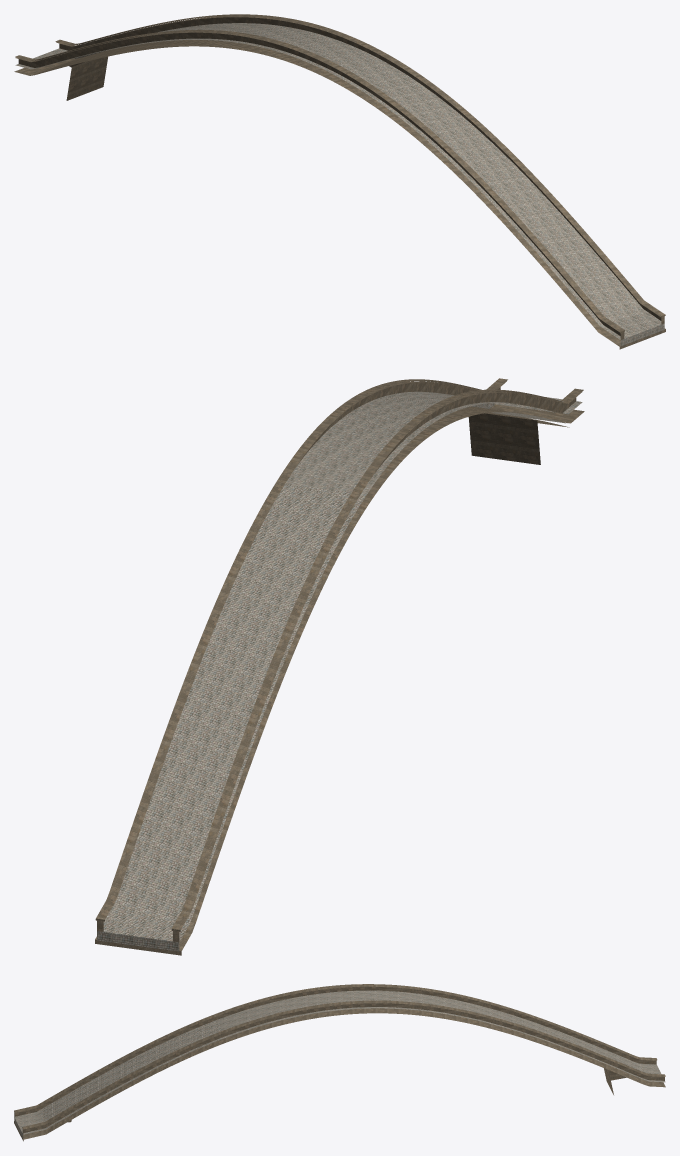
File: lava_bridge_0.glb
The picture shows the model from 3 angles, top to bottom: view 1: azimuth 30°, elevation 25°; view 2: azimuth 150°, elevation 25°; view 3: azimuth 270°, elevation 25°; orthographic projection. The views are drawn at different scales.
Visible parts, largest first — view 1: LavaBridge; view 2: LavaBridge; view 3: LavaBridge.
Part boxes in pixels (box(x1,y1,x2,y2)): LavaBridge: box(14, 14, 665, 349); LavaBridge: box(95, 378, 584, 955); LavaBridge: box(14, 984, 665, 1141).
Bounding box in the file's own units: 31.66 × 22.73 × 113.
2 materials, 2 textured.
